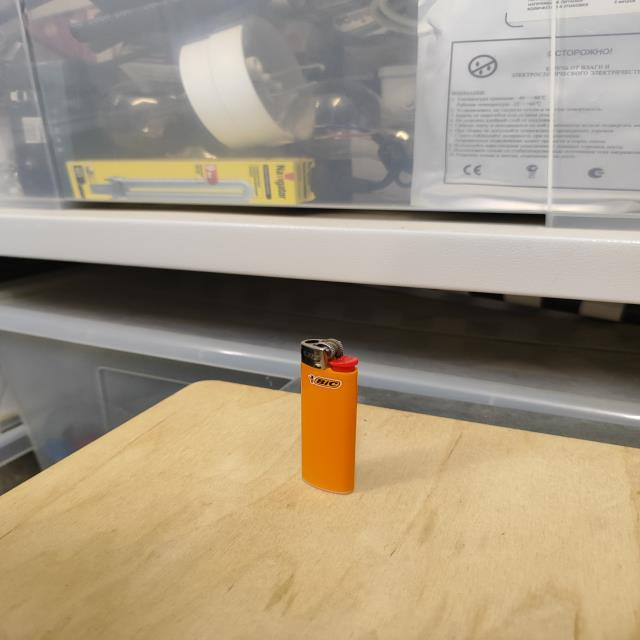lighter: (301, 339, 358, 493)
